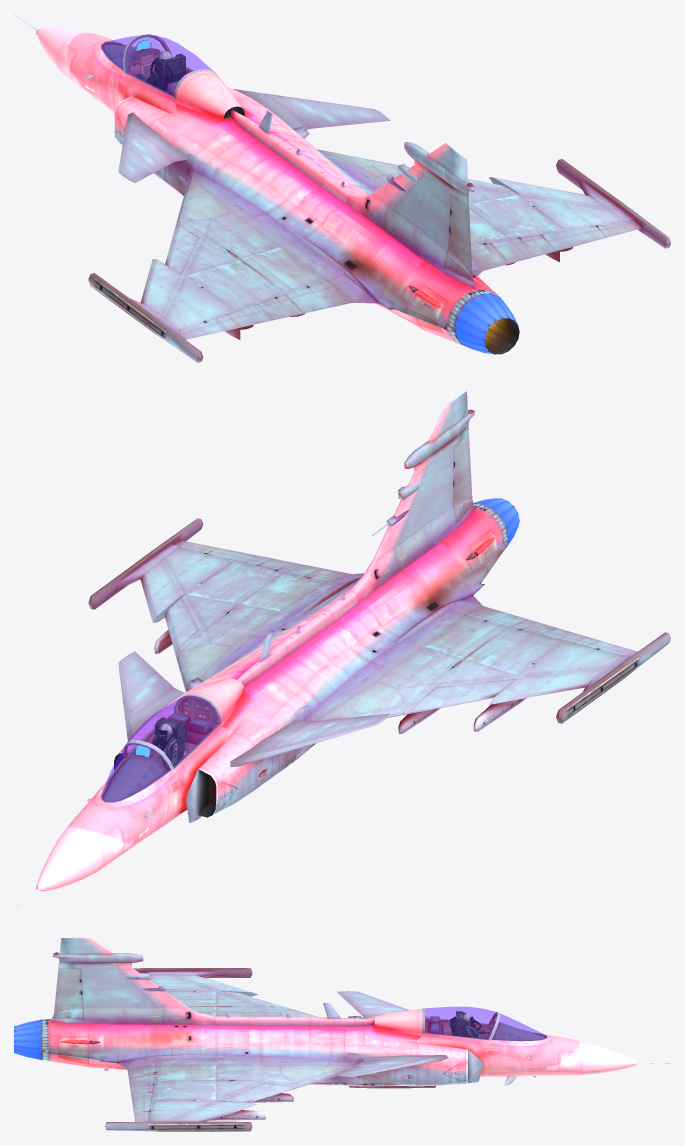
3 renders of one model, top to bottom at view 1: azimuth 30°, elevation 25°; view 2: azimuth 150°, elevation 25°; view 3: azimuth 270°, elevation 25°, orthographic. The views are drawn at different scales.
Parts seen in each view (by area): view 1: SAB-39_LOD0, SAB-39_Glass, SAB-39_EngineL01, SAB-39_CanardR01, SAB-39_FlapL01, SAB-39_CanardL01, SAB-39_FlapR01, SAB-39_RudderL01, SAB-39_VoletL01, SAB-39_AileronL01, SAB-39_AileronR01, SAB-39_VoletL02 (+4 smaller); view 2: SAB-39_LOD0, SAB-39_Glass, SAB-39_CanardR01, SAB-39_CanardL01, SAB-39_VoletL02, SAB-39_VoletL01, SAB-39_VoletR01, SAB-39_FlapL01, SAB-39_VoletR02, SAB-39_RudderL01, SAB-39_FlapR01, SAB-39_Canopy01 (+4 smaller); view 3: SAB-39_LOD0, SAB-39_Glass, SAB-39_RudderL01, SAB-39_CanardR01, SAB-39_FlapR01, SAB-39_CanardL01, SAB-39_EngineL01, SAB-39_VoletR01, SAB-39_VoletR02, SAB-39_BrakeR01, SAB-39_VoletL01, SAB-39_Canopy01 (+4 smaller).
Part boxes in pixels (<box>): SAB-39_LOD0: <box>14,14,670,362</box>; SAB-39_Glass: <box>101,34,213,97</box>; SAB-39_EngineL01: <box>455,294,519,354</box>; SAB-39_CanardR01: <box>233,89,390,129</box>; SAB-39_FlapL01: <box>258,270,377,320</box>; SAB-39_CanardL01: <box>118,112,188,182</box>; SAB-39_FlapR01: <box>471,235,556,276</box>; SAB-39_RudderL01: <box>444,194,473,281</box>; SAB-39_VoletL01: <box>140,259,183,318</box>; SAB-39_AileronL01: <box>175,304,272,339</box>; SAB-39_AileronR01: <box>542,220,642,251</box>; SAB-39_VoletL02: <box>165,222,204,276</box>; SAB-39_LOD0: <box>14,391,670,908</box>; SAB-39_Glass: <box>101,696,219,802</box>; SAB-39_CanardR01: <box>118,651,184,741</box>; SAB-39_CanardL01: <box>230,713,389,767</box>; SAB-39_VoletL02: <box>403,676,519,714</box>; SAB-39_VoletL01: <box>489,666,609,704</box>; SAB-39_VoletR01: <box>140,557,183,622</box>; SAB-39_FlapL01: <box>444,595,556,634</box>; SAB-39_VoletR02: <box>164,594,204,657</box>; SAB-39_RudderL01: <box>453,434,473,521</box>; SAB-39_FlapR01: <box>258,558,363,584</box>; SAB-39_Canopy01: <box>126,694,221,771</box>; SAB-39_LOD0: <box>41,937,670,1131</box>; SAB-39_Glass: <box>425,1006,546,1040</box>; SAB-39_RudderL01: <box>52,968,83,1019</box>; SAB-39_CanardR01: <box>337,1055,448,1076</box>; SAB-39_FlapR01: <box>117,1055,156,1095</box>; SAB-39_CanardL01: <box>337,991,430,1018</box>; SAB-39_EngineL01: <box>14,1019,41,1059</box>; SAB-39_VoletR01: <box>168,1101,257,1121</box>; SAB-39_VoletR02: <box>216,1081,299,1102</box>; SAB-39_BrakeR01: <box>58,1035,89,1063</box>; SAB-39_VoletL01: <box>168,975,257,996</box>; SAB-39_Canopy01: <box>422,1008,498,1042</box>.
Bounding box in the file's own units: 831 × 355 × 1483.
